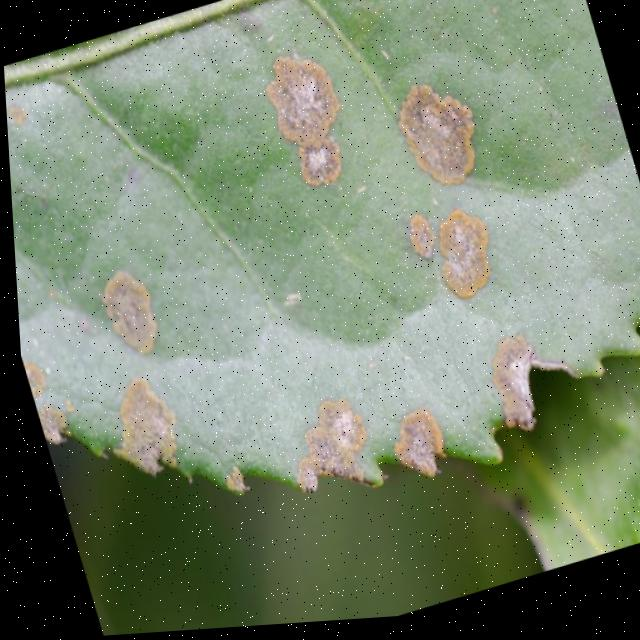Tea red rust: (3, 0, 640, 567)
